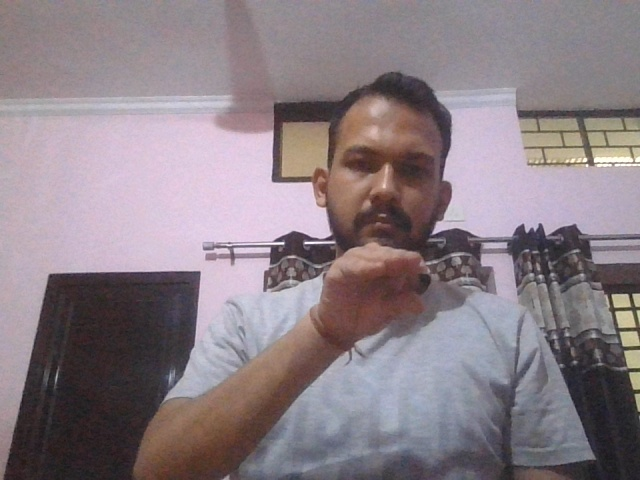no: (318, 242, 430, 345)
